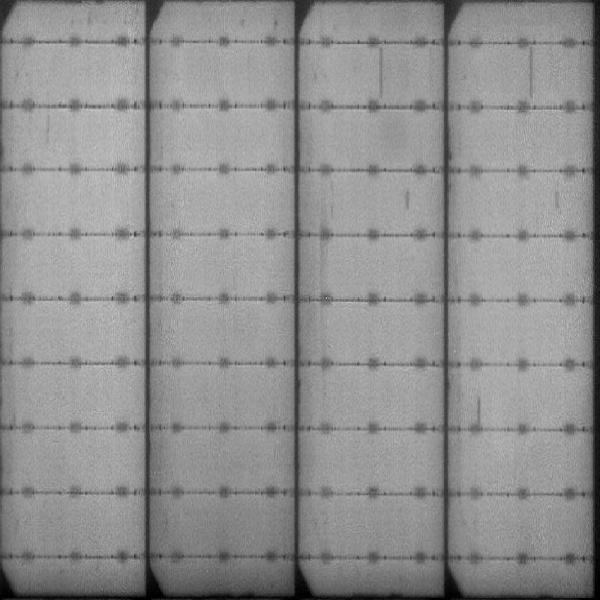scratch: (521, 49, 541, 102), (373, 42, 389, 101), (474, 390, 486, 436)
